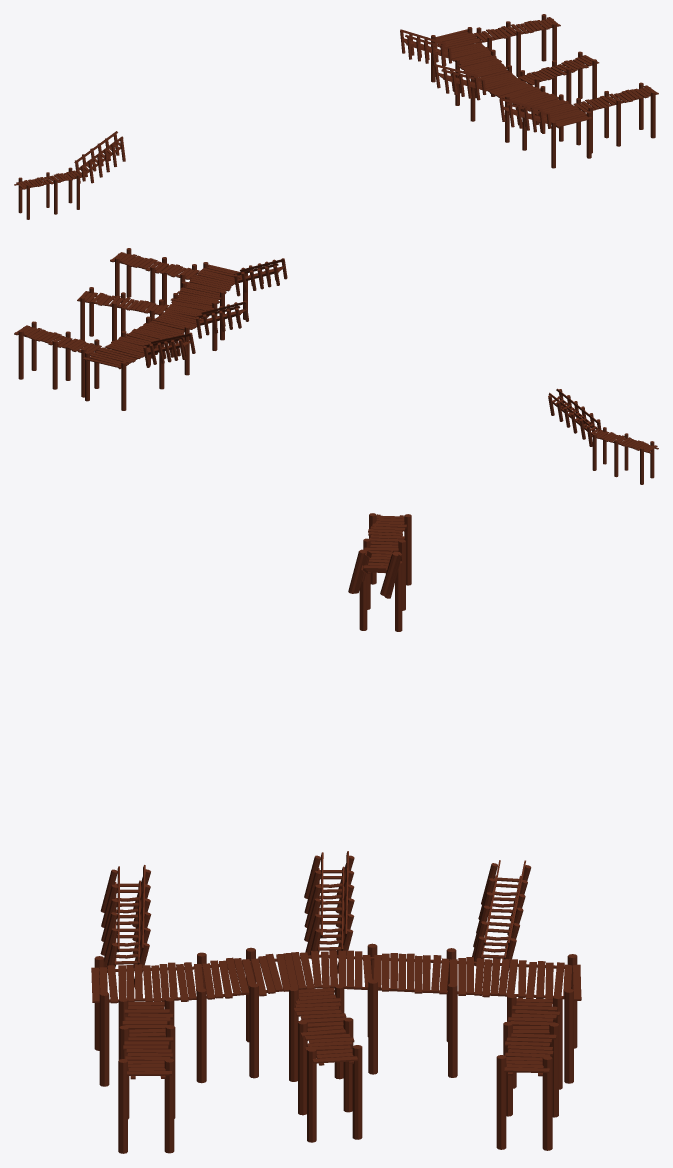
File: 11.11_Bubuia_cais1.fbx
3 views of the same model, one above another, from view 1: azimuth 30°, elevation 25°; view 2: azimuth 150°, elevation 25°; view 3: azimuth 270°, elevation 25° (orthographic). The views are drawn at different scales.
Parts seen in each view (by area): view 1: Cube.022, Cube.023, Cube.021, Cube.014, Cube.012, Cube.013; view 2: Cube.022, Cube.023, Cube.021, Cube.014, Cube.012, Cube.013; view 3: Cube.022, Cube.013, Cube.012, Cube.023, Cube.014, Cube.021.
Boxes of the visible parts, x1,y1,x2,y2 form: Cube.022: [431, 14, 658, 168]; Cube.023: [14, 167, 82, 219]; Cube.021: [74, 131, 125, 183]; Cube.014: [400, 29, 451, 66]; Cube.012: [499, 98, 551, 133]; Cube.013: [434, 64, 486, 100]; Cube.022: [14, 248, 247, 410]; Cube.023: [591, 427, 658, 484]; Cube.021: [548, 388, 601, 446]; Cube.014: [143, 332, 195, 367]; Cube.012: [234, 258, 287, 296]; Cube.013: [195, 300, 248, 338]; Cube.022: [91, 943, 581, 1153]; Cube.013: [304, 851, 354, 973]; Cube.012: [100, 865, 151, 987]; Cube.023: [359, 513, 411, 631]; Cube.014: [472, 860, 531, 980]; Cube.021: [348, 549, 401, 598].
Bounding box in the file's own units: 240 × 28.45 × 88.08.
